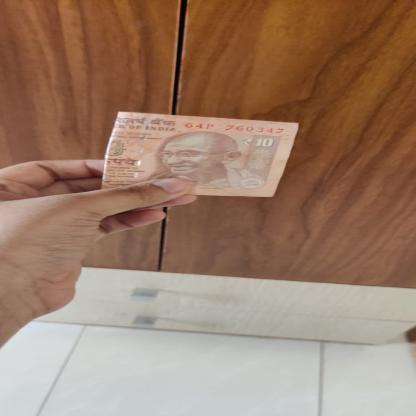Old10Front: (100, 110, 304, 199)
